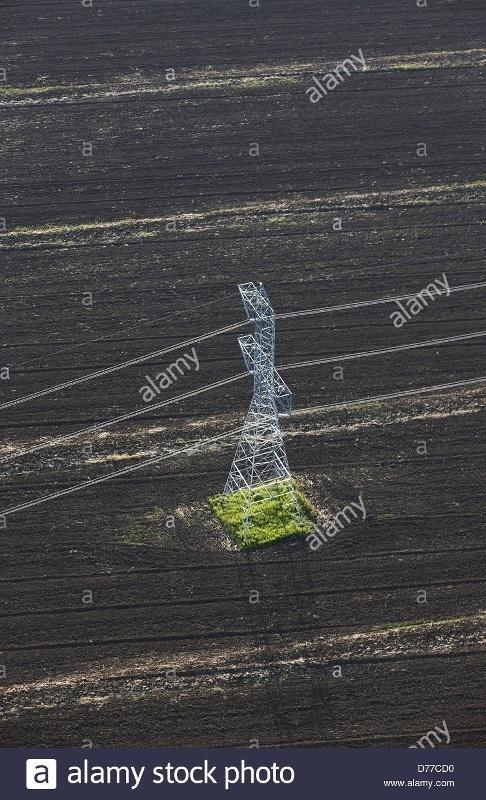power_tower: (218, 274, 306, 552)
